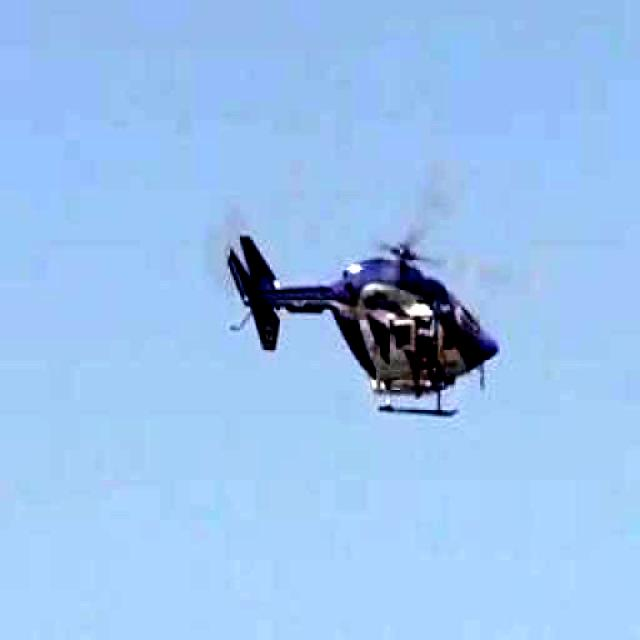drone: (196, 144, 578, 464)
